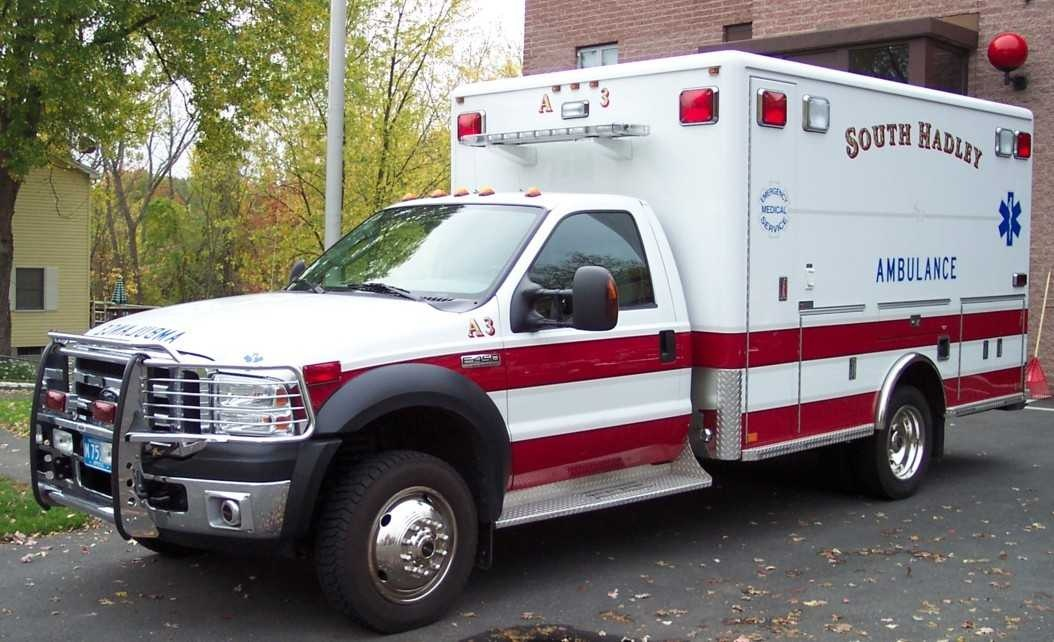Ambulance: (38, 33, 1018, 627)
